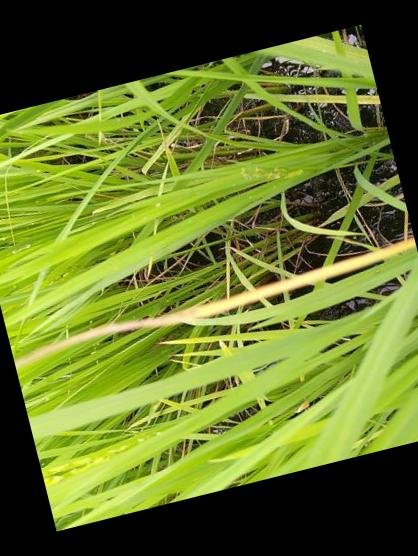Leaf Blight: (35, 236, 416, 356)
